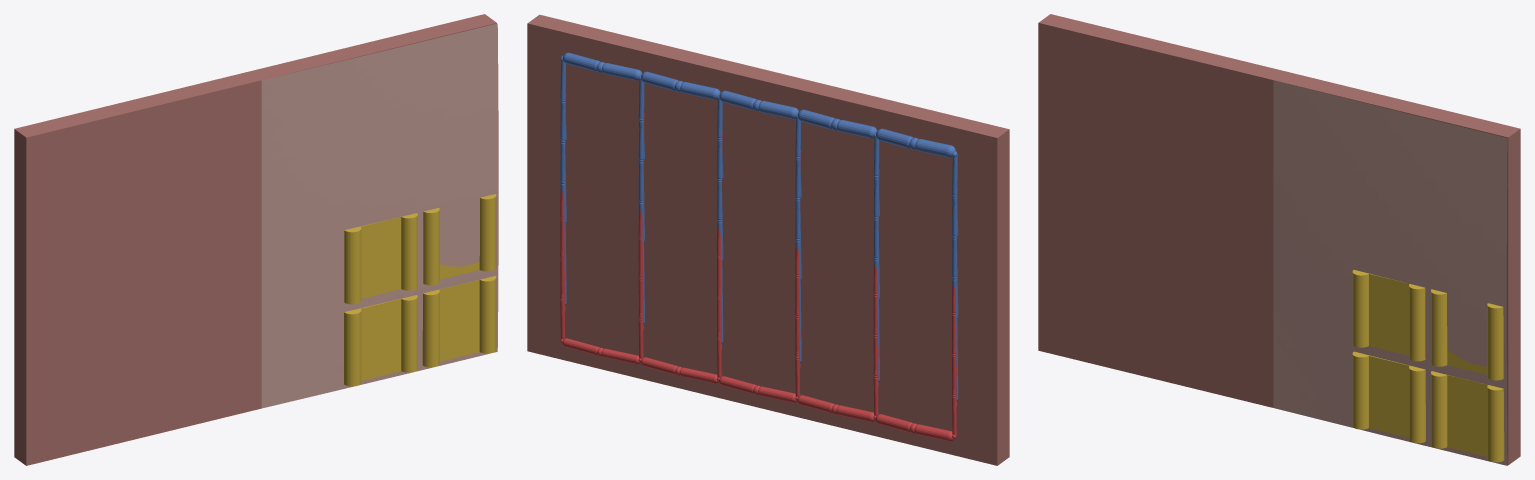
Rendered from dranmar_perfused_tissue_retraction_ischemia.glb.
3 views of the same model, side by side, from view 1: azimuth 30°, elevation 25°; view 2: azimuth 150°, elevation 25°; view 3: azimuth 330°, elevation 25° (orthographic).
Visible parts, largest first — view 1: TissueBulk, TissueSurface, Overlay_2, Overlay_0, Overlay_1, Overlay_3; view 2: TissueBulk, VT0, VT1, VT2, VT3, VT4, AT0, AT1, AT2, AT3, AT4, VB05 (+5 smaller); view 3: TissueBulk, TissueSurface, Overlay_0, Overlay_1, Overlay_2, Overlay_3.
Boxes of the visible parts, <box> form: TissueBulk: <box>14,14,496,465</box>; TissueSurface: <box>261,23,498,408</box>; Overlay_2: <box>422,276,496,367</box>; Overlay_0: <box>344,295,417,386</box>; Overlay_1: <box>344,213,417,304</box>; Overlay_3: <box>423,194,496,285</box>; TissueBulk: <box>527,14,1009,465</box>; VT0: <box>876,128,955,157</box>; VT1: <box>797,109,877,138</box>; VT2: <box>719,90,798,119</box>; VT3: <box>641,71,720,99</box>; VT4: <box>562,52,642,80</box>; AT0: <box>875,414,953,441</box>; AT1: <box>797,395,875,422</box>; AT2: <box>719,376,796,402</box>; AT3: <box>640,357,718,383</box>; AT4: <box>562,338,640,364</box>; VB05: <box>560,63,566,304</box>; TissueBulk: <box>1038,14,1520,465</box>; TissueSurface: <box>1273,80,1507,465</box>; Overlay_0: <box>1352,351,1425,443</box>; Overlay_1: <box>1352,270,1425,361</box>; Overlay_2: <box>1431,371,1504,462</box>; Overlay_3: <box>1431,289,1503,380</box>.
Bounding box in the file's own units: 0.18 × 0.12 × 0.0168.
